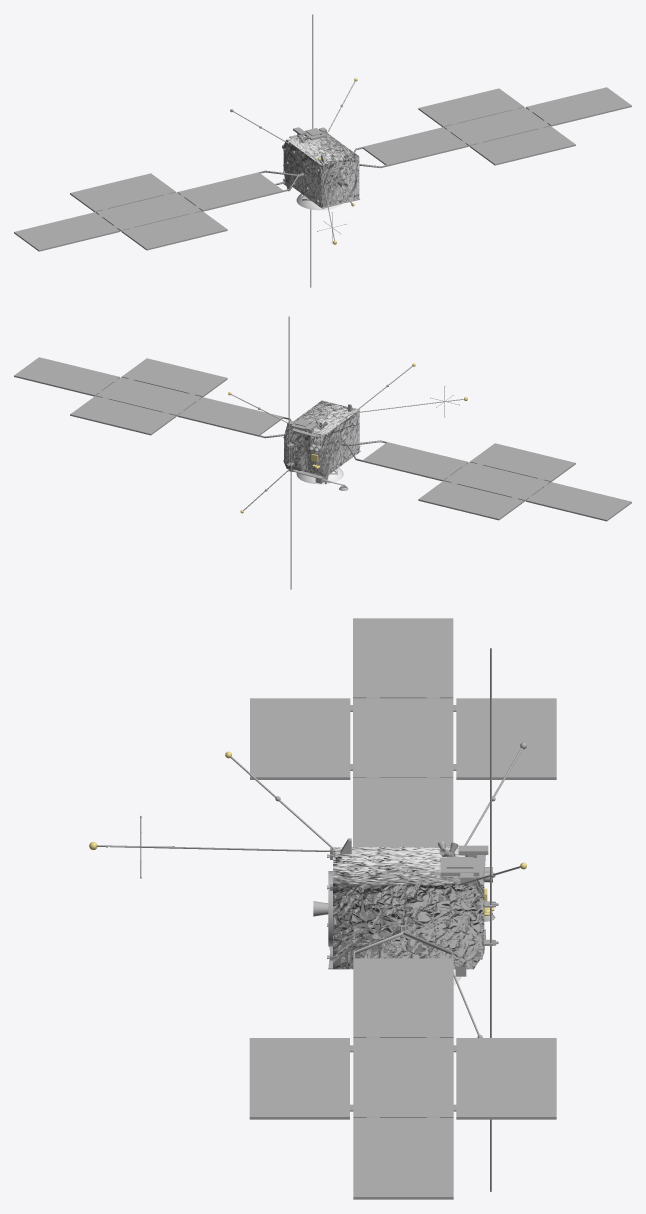
File: juice_low_resolution_v03.obj
The picture shows the model from 3 angles, top to bottom: view 1: azimuth 30°, elevation 25°; view 2: azimuth 150°, elevation 25°; view 3: azimuth 270°, elevation 25°; orthographic projection. The views are drawn at different scales.
Visible parts, largest first — view 1: Box020_9, Box105_172, Box107_172, Box121_172, Box122_172, Box109_172, Box117_172, Box108_172, Box120_172, Box114_172, Box106_172; view 2: Box020_9, Box120_172, Box108_172, Box105_172, Box122_172, Box117_172, Box109_172, Box121_172, Box107_172, Box106_172, Box114_172; view 3: Box020_9, Box117_172, Box120_172, Box121_172, Box107_172, Box105_172, Box122_172, Box106_172, Box114_172, Box108_172, Box109_172.
Boxes of the visible parts, bbox=[...] form: Box020_9: bbox=[283, 133, 359, 207]; Box105_172: bbox=[14, 212, 119, 251]; Box107_172: bbox=[121, 211, 227, 250]; Box121_172: bbox=[470, 126, 575, 165]; Box122_172: bbox=[362, 127, 468, 166]; Box109_172: bbox=[177, 172, 283, 211]; Box117_172: bbox=[526, 87, 631, 126]; Box108_172: bbox=[70, 173, 175, 212]; Box120_172: bbox=[418, 88, 523, 127]; Box114_172: bbox=[444, 107, 549, 146]; Box106_172: bbox=[96, 192, 201, 231]; Box020_9: bbox=[284, 400, 359, 477]; Box120_172: bbox=[70, 396, 175, 435]; Box108_172: bbox=[418, 481, 524, 520]; Box105_172: bbox=[526, 482, 631, 521]; Box122_172: bbox=[177, 397, 283, 436]; Box117_172: bbox=[14, 357, 119, 396]; Box109_172: bbox=[362, 442, 468, 481]; Box121_172: bbox=[122, 358, 227, 397]; Box107_172: bbox=[470, 443, 575, 482]; Box106_172: bbox=[444, 462, 549, 501]; Box114_172: bbox=[96, 377, 201, 416]; Box020_9: bbox=[333, 847, 484, 969]; Box117_172: bbox=[353, 1118, 453, 1199]; Box120_172: bbox=[456, 1038, 556, 1119]; Box121_172: bbox=[249, 1038, 349, 1119]; Box107_172: bbox=[250, 698, 350, 779]; Box105_172: bbox=[353, 618, 453, 698]; Box122_172: bbox=[353, 958, 453, 1037]; Box106_172: bbox=[353, 698, 453, 777]; Box114_172: bbox=[353, 1038, 453, 1117]; Box108_172: bbox=[456, 698, 556, 779]; Box109_172: bbox=[353, 778, 453, 847].
Size of the model in its own units: 344 by 151 by 118.
7 materials, 2 textured.
